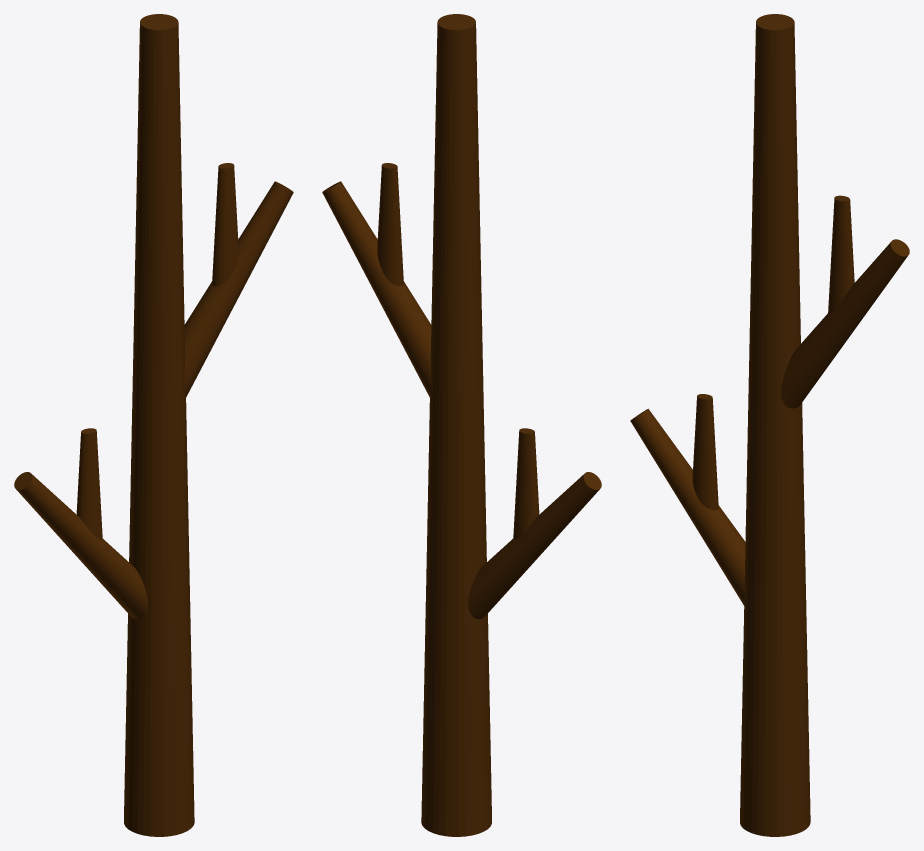
Rendered from stick.fbx.
3 views of the same model, side by side, from view 1: azimuth 30°, elevation 25°; view 2: azimuth 150°, elevation 25°; view 3: azimuth 330°, elevation 25° (orthographic).
Visible parts, largest first — view 1: Cylinder, Cylinder.001, Cylinder.002, Cylinder.004, Cylinder.003; view 2: Cylinder, Cylinder.001, Cylinder.002, Cylinder.004, Cylinder.003; view 3: Cylinder, Cylinder.001, Cylinder.002, Cylinder.003, Cylinder.004.
Boxes of the visible parts, left/top/right/bottom form: Cylinder: left=124, top=14, right=194, bottom=836; Cylinder.001: left=184, top=181, right=293, bottom=397; Cylinder.002: left=14, top=472, right=147, bottom=619; Cylinder.004: left=212, top=163, right=238, bottom=286; Cylinder.003: left=76, top=428, right=102, bottom=539; Cylinder: left=421, top=14, right=491, bottom=836; Cylinder.001: left=322, top=181, right=431, bottom=397; Cylinder.002: left=468, top=472, right=601, bottom=619; Cylinder.004: left=377, top=163, right=403, bottom=286; Cylinder.003: left=513, top=428, right=539, bottom=539; Cylinder: left=740, top=14, right=810, bottom=836; Cylinder.001: left=781, top=239, right=909, bottom=408; Cylinder.002: left=630, top=408, right=745, bottom=605; Cylinder.003: left=692, top=394, right=718, bottom=510; Cylinder.004: left=828, top=195, right=854, bottom=313.
Size of the model in its own units: 72.24 by 200 by 16.07.
